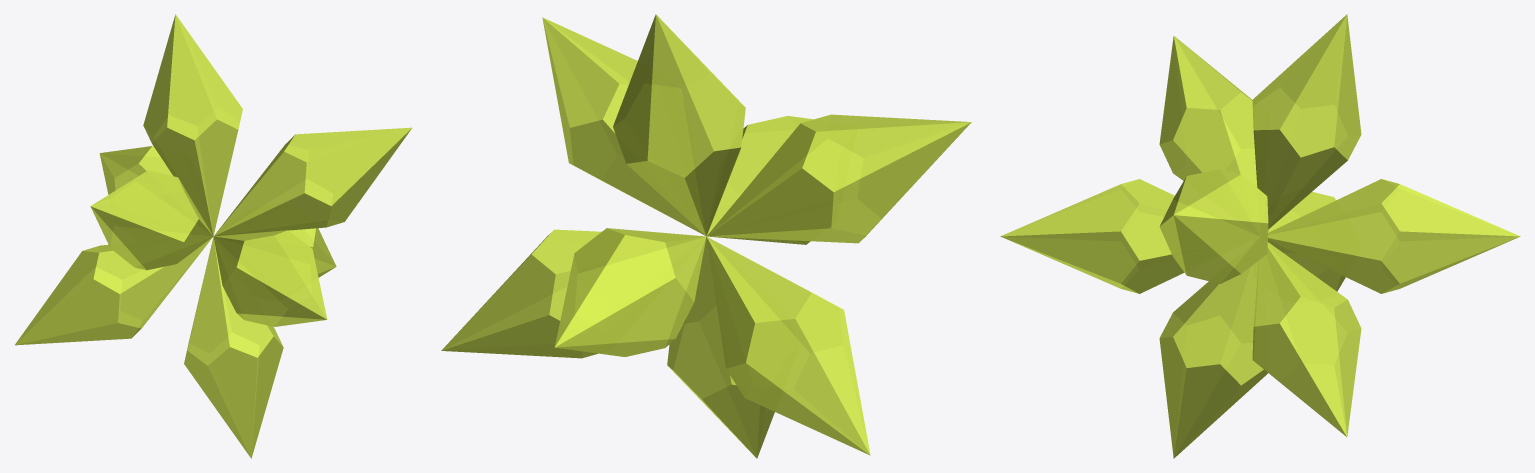
File: Truncated_Cuboctahedron.obj
3 views of the same model, side by side, from view 1: azimuth 30°, elevation 25°; view 2: azimuth 150°, elevation 25°; view 3: azimuth 270°, elevation 25° (orthographic). The views are drawn at different scales.
Size of the model in its own units: 3.17 by 3.67 by 3.89.
